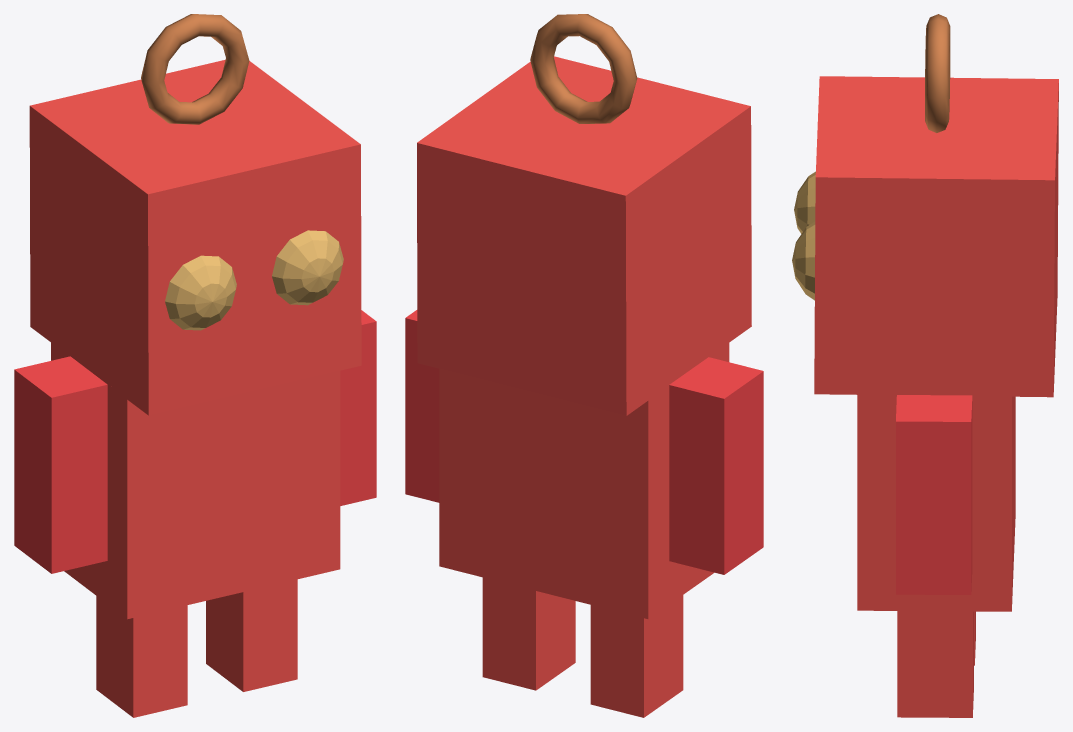
The model's file is Player3.fbx.
3 renders of one model, left to right at view 1: azimuth 30°, elevation 25°; view 2: azimuth 150°, elevation 25°; view 3: azimuth 270°, elevation 25°, orthographic.
Visible parts, largest first — view 1: head.006, head.001, head.005, head.004, head.003, head.009, head.002, head.007, head.008; view 2: head.006, head.001, head.005, head.004, head.003, head.009, head.002; view 3: head.006, head.001, head.002, head.003, head.009, head.007, head.008.
Boxes of the visible parts, x1,y1,x2,y2 form: head.006: (29, 59, 361, 415); head.001: (51, 342, 340, 619); head.005: (14, 356, 107, 573); head.004: (96, 596, 187, 717); head.003: (206, 579, 297, 691); head.009: (141, 14, 249, 124); head.002: (340, 310, 376, 505); head.007: (272, 230, 343, 305); head.008: (165, 255, 236, 330); head.006: (417, 56, 751, 415); head.001: (439, 342, 729, 619); head.005: (669, 357, 763, 574); head.004: (590, 595, 683, 717); head.003: (482, 577, 575, 690); head.009: (530, 14, 637, 123); head.002: (405, 310, 439, 502); head.006: (814, 76, 1058, 397); head.001: (857, 394, 1015, 611); head.002: (896, 395, 972, 594); head.003: (897, 611, 973, 717); head.009: (925, 14, 950, 132); head.007: (792, 221, 815, 300); head.008: (794, 171, 815, 233).
Size of the model in its own units: 306 by 607 by 223.
